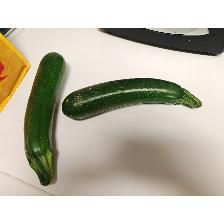Zucchini: (61, 76, 203, 122), (22, 50, 68, 188)
